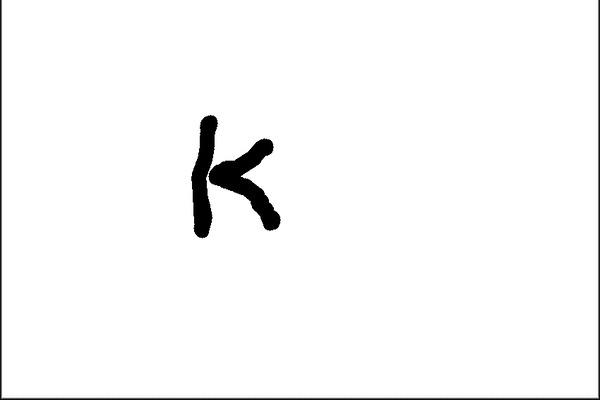K: (183, 112, 290, 240)
